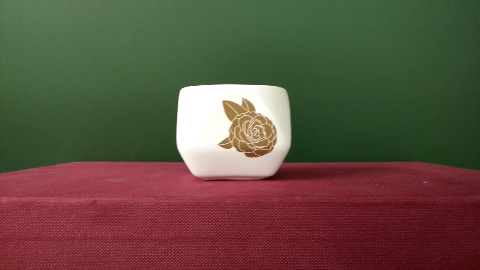flower: (211, 93, 279, 160)
